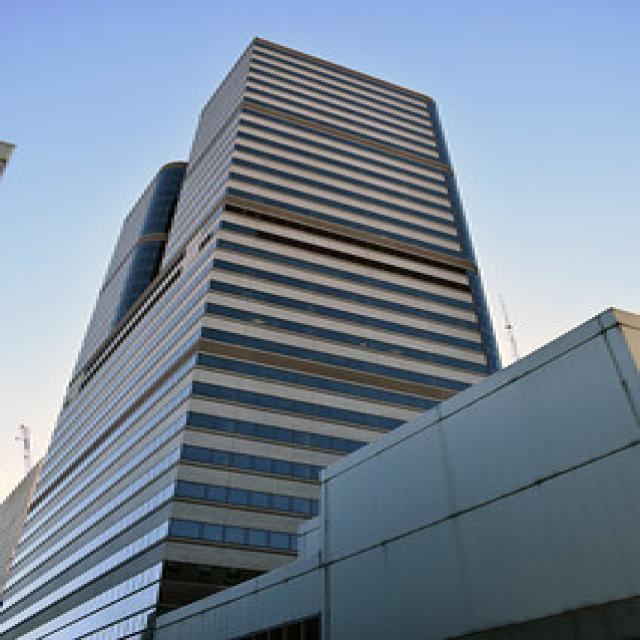building: (18, 33, 505, 639)
